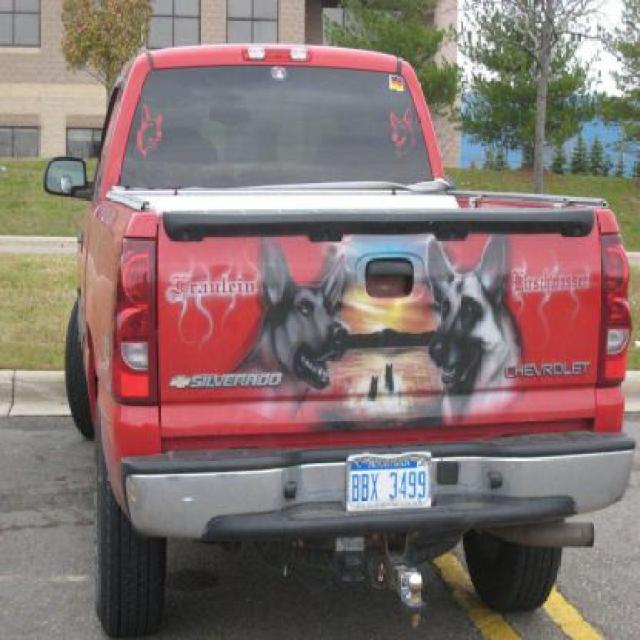License-Plates: (346, 451, 432, 511)
